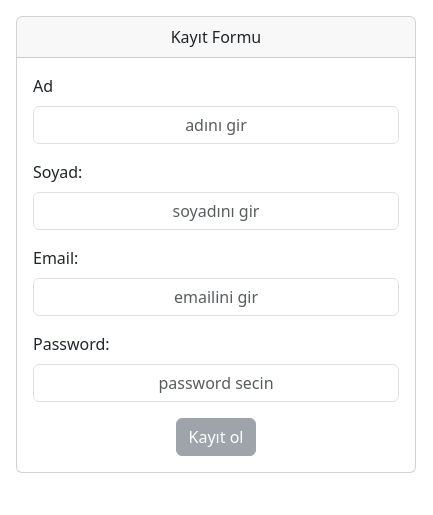
Test: register sayfasi › error messages › soyad input throws error for 2 chars
Type "em" into the field with test id "soyad-input" at point(216, 211), box [33,192,399,230]
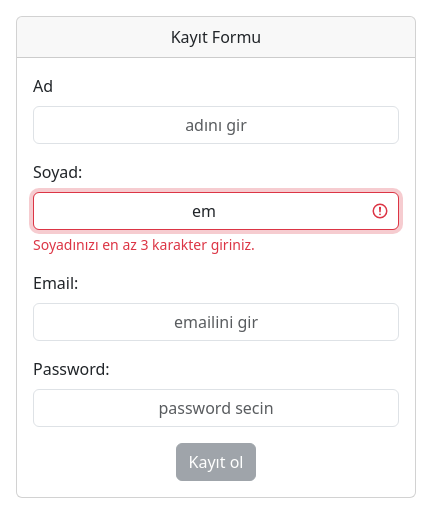
Now the text "Soyadınızı en az 3 karakter giriniz." is shown, box [33,235,255,254]
